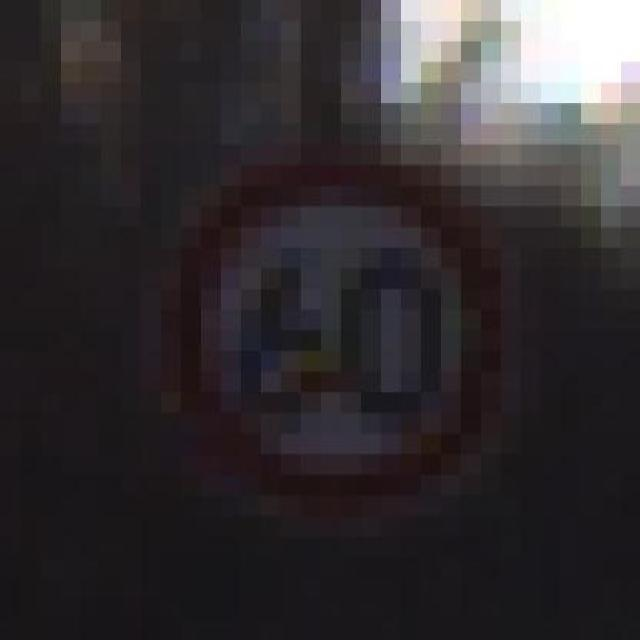forb_speed_over_60: (166, 162, 497, 499)
